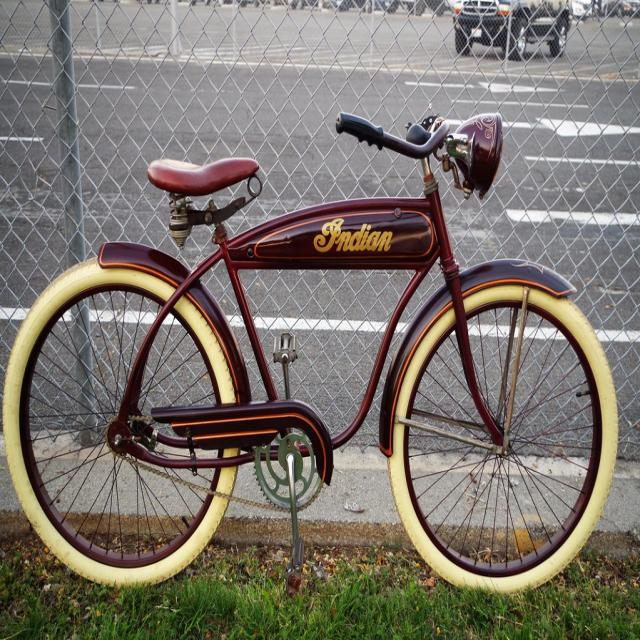bicycle: (4, 112, 618, 592)
car: (454, 0, 571, 60)
